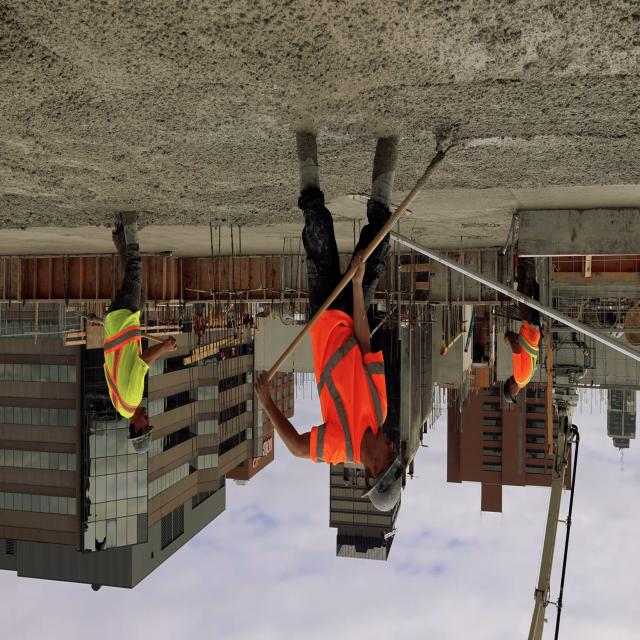Boots: (367, 123, 401, 214), (298, 123, 318, 205), (112, 216, 142, 266)
Helmet: (360, 451, 404, 516), (130, 428, 156, 453), (503, 380, 518, 412)
Vest: (313, 308, 383, 464), (105, 307, 149, 415), (514, 322, 542, 386)
